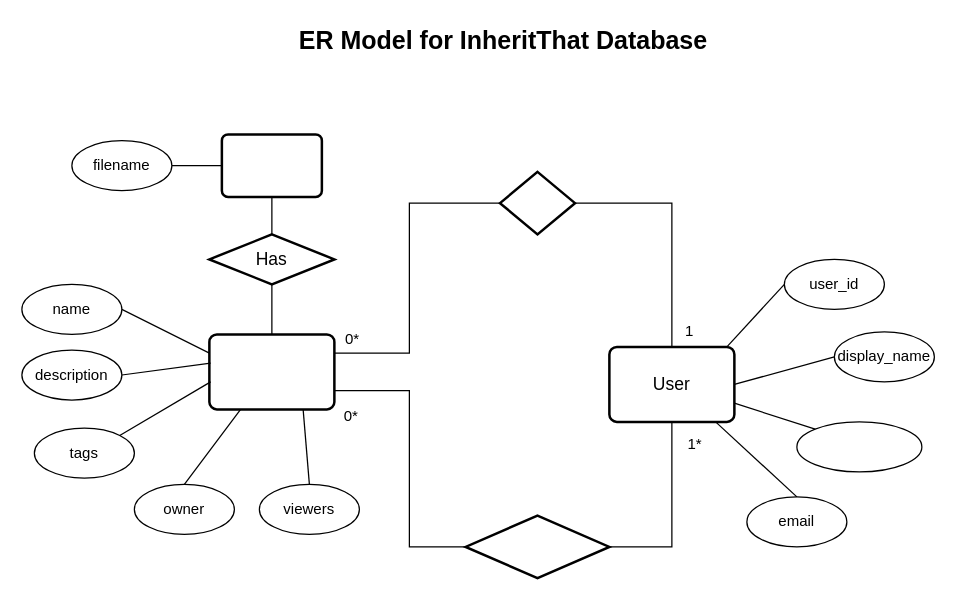
The diagram is 956 pixels wide and 600 high, and some of its shapes have lost their labels. The shapes that lost their labels are listed below. From the top down, each one's box as (x1, y1, x2, y2) in pixels, then its label:
(220, 132, 322, 198): Images
(498, 170, 576, 235): Owns
(208, 332, 335, 410): Artefact
(796, 421, 922, 472): display_picture
(464, 514, 610, 579): Can View
